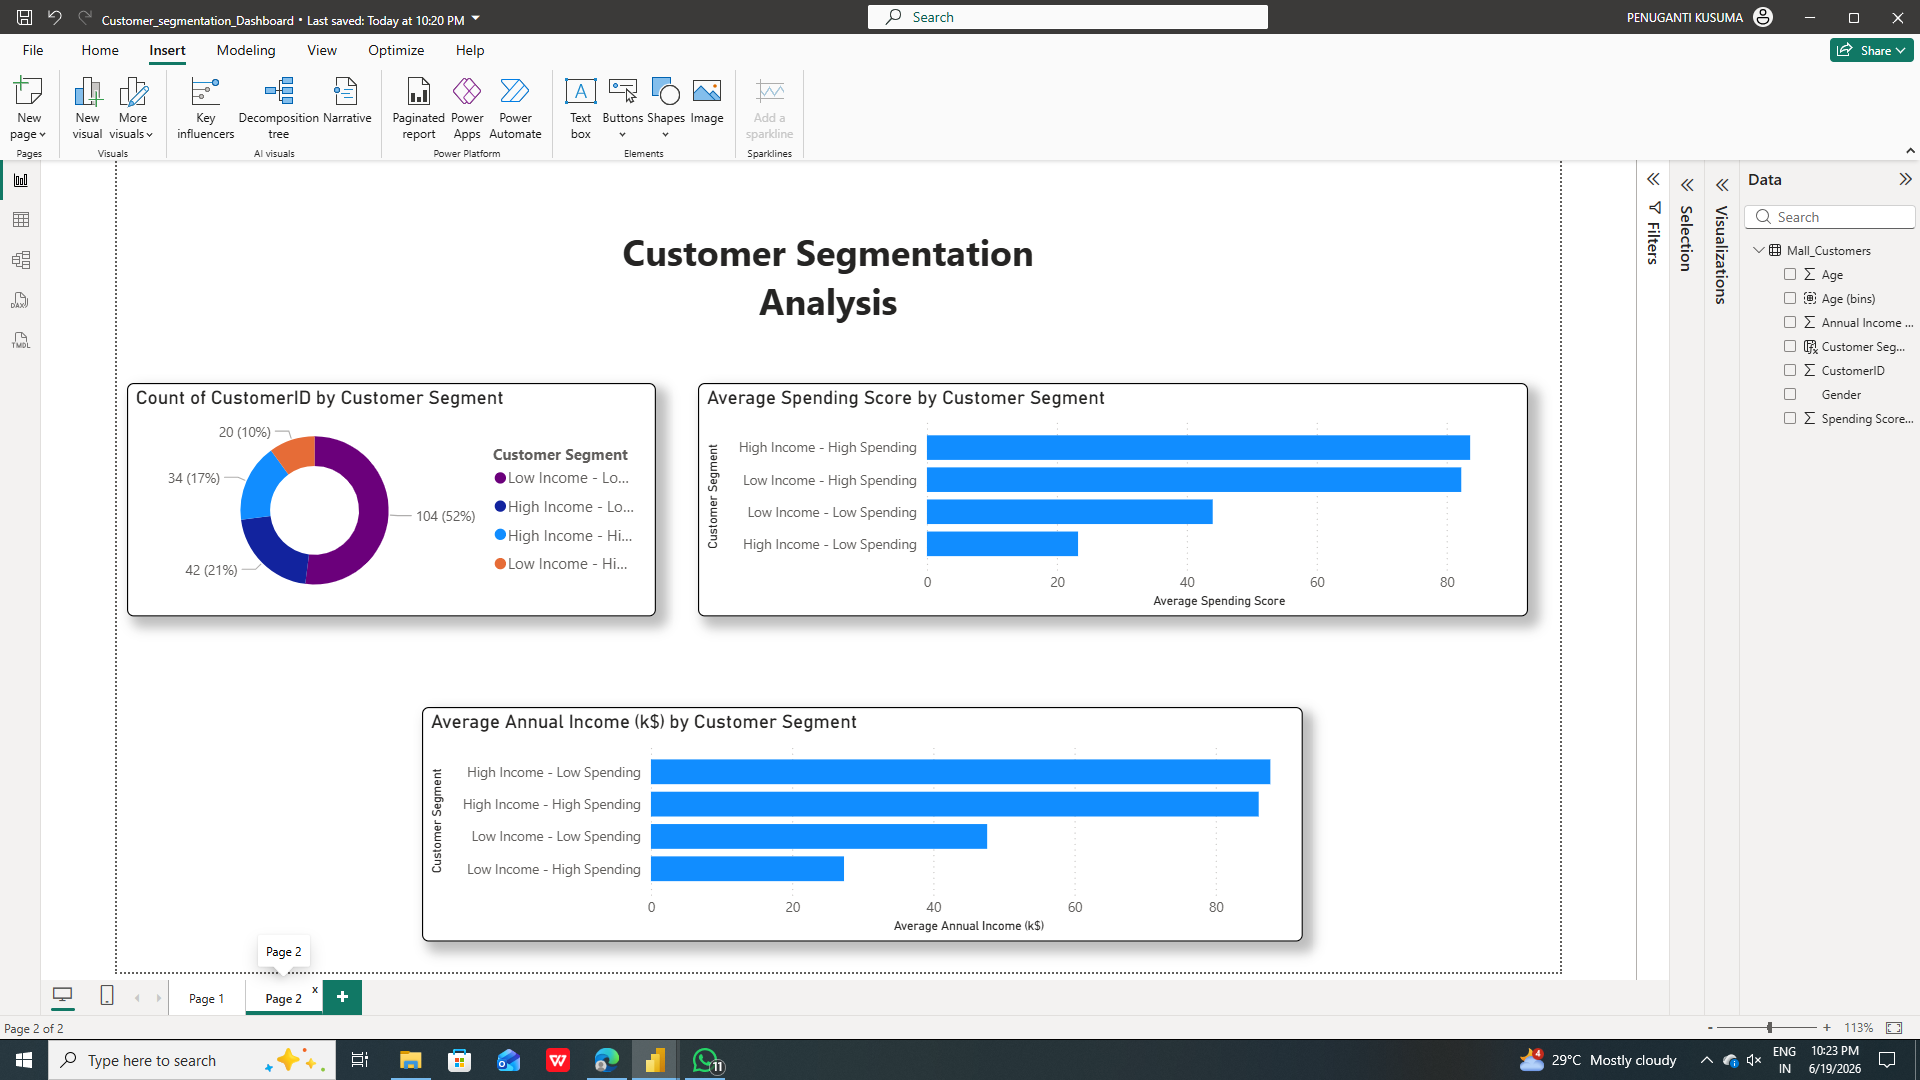

The dashboard page shown, as its layout file describes it:
{"tool":"powerbi","page":{"name":"Page 2","canvas":[1280,720],"ordinal":1},"visuals":[{"type":"donutChart","fields":{"Category":["Mall_Customers.Customer Segment"],"Y":["CountNonNull(Mall_Customers.CustomerID)"]},"box":[9,197.8,468.6,206.8],"z":0},{"type":"clusteredBarChart","fields":{"Category":["Mall_Customers.Customer Segment"],"Y":["Avg(Mall_Customers.Spending Score (1-100))"]},"box":[515.6,197.8,736.4,206.8],"z":1},{"type":"clusteredBarChart","fields":{"Category":["Mall_Customers.Customer Segment"],"Y":["Avg(Mall_Customers.Annual Income (k$))"]},"box":[270.8,484.6,781.4,207.8],"z":2},{"type":"textbox","box":[396.7,54,468.6,97.9],"z":3}]}

Visuals, with their boxes on the page's 1280x720 design canvas (x1, y1, x2, y2). These are canvas units, not pixel positions in the 1920x1080 screenshot, which may show the page scaled, cropped or inside an application window:
donutChart - Mall_Customers.Customer Segment x CountNonNull(Mall_Customers.CustomerID): [x1=9, y1=198, x2=478, y2=405]
clusteredBarChart - Mall_Customers.Customer Segment x Avg(Mall_Customers.Spending Score (1-100)): [x1=516, y1=198, x2=1252, y2=405]
clusteredBarChart - Mall_Customers.Customer Segment x Avg(Mall_Customers.Annual Income (k$)): [x1=271, y1=485, x2=1052, y2=692]
textbox: [x1=397, y1=54, x2=865, y2=152]
